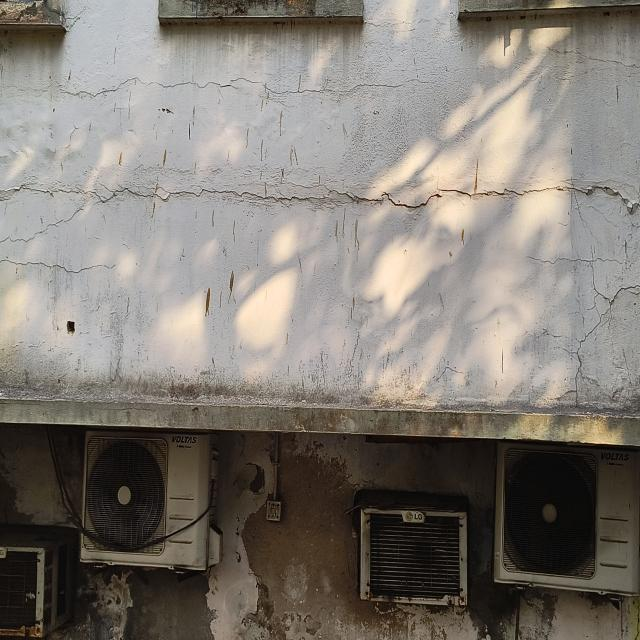Corrosion: (0, 617, 61, 640)
Corrosion stain: (159, 0, 363, 23), (458, 0, 638, 20), (0, 0, 67, 28)
Crack: (0, 117, 640, 229), (527, 235, 640, 417), (46, 60, 423, 114), (3, 245, 118, 278), (0, 203, 88, 243), (552, 36, 639, 76)
pollution -moisture induced blackening: (0, 361, 640, 450), (221, 443, 481, 639), (62, 548, 185, 638)
